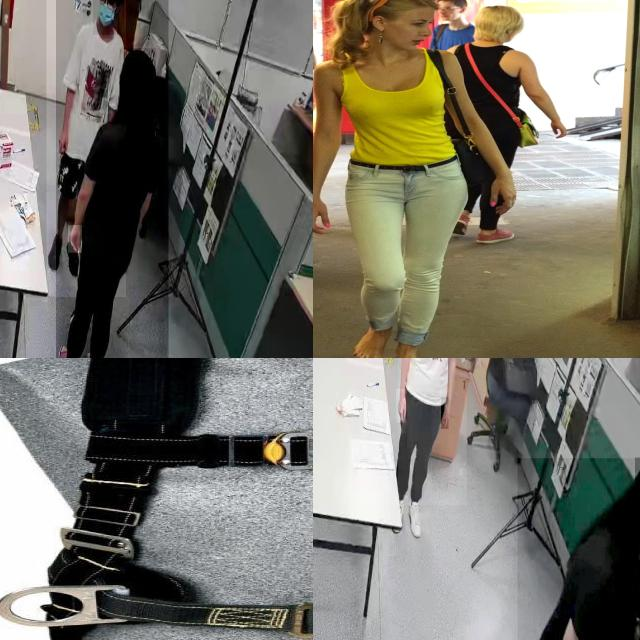Barefoots: (353, 323, 393, 358), (394, 350, 436, 358)
Harness: (48, 358, 313, 639)
face_mask: (92, 0, 119, 35)
hand_noglove: (68, 225, 82, 254), (396, 389, 406, 423), (58, 125, 69, 155), (441, 397, 449, 430)
head_nohelmet: (120, 48, 156, 86)
person: (56, 0, 169, 358), (46, 0, 125, 297), (517, 458, 640, 640), (398, 358, 467, 506)
shoes: (47, 230, 65, 272), (406, 500, 424, 539), (55, 342, 76, 358), (80, 346, 98, 358)
